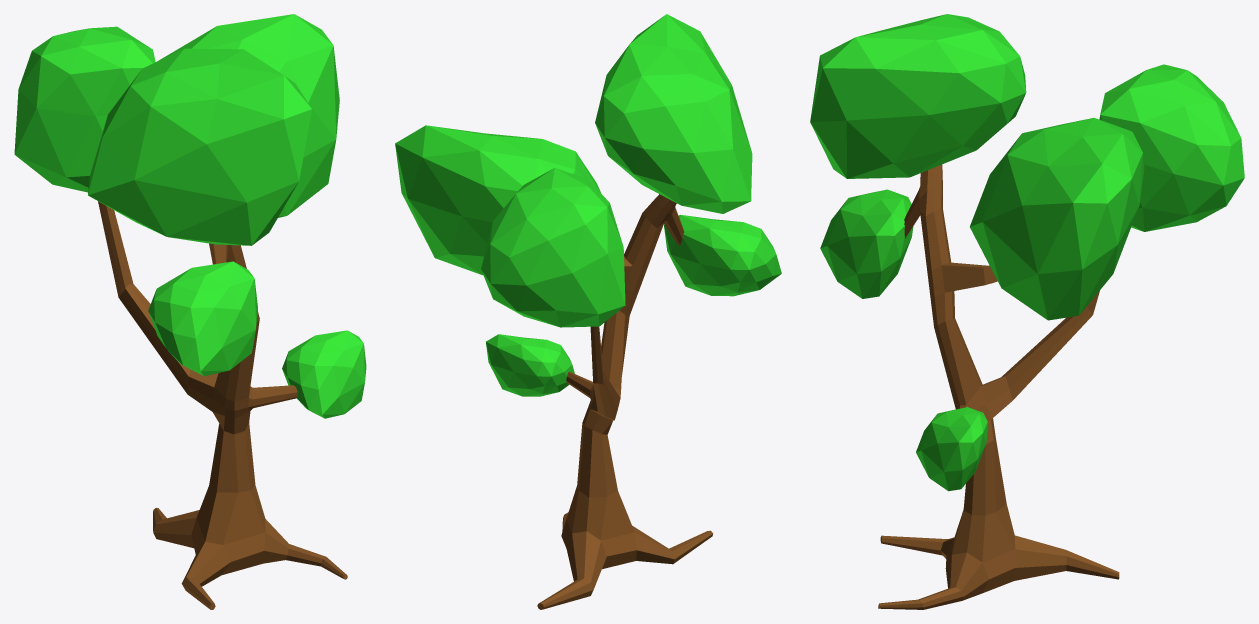
File: tree05.fbx
3 views of the same model, side by side, from view 1: azimuth 30°, elevation 25°; view 2: azimuth 150°, elevation 25°; view 3: azimuth 270°, elevation 25° (orthographic). The views are drawn at different scales.
Visible parts, largest first — view 1: Tree05; view 2: Tree05; view 3: Tree05.
Part boxes in pixels (x1,y1,x2,y2): Tree05: [14, 14, 366, 609]; Tree05: [395, 14, 781, 609]; Tree05: [810, 14, 1244, 609].
Bounding box in the file's own units: 656 × 1081 × 787.
